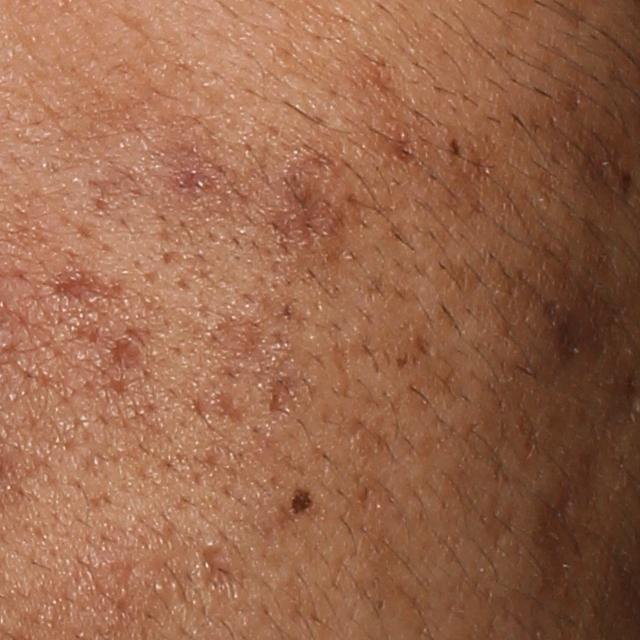atrophic_scar: (209, 379, 251, 423), (102, 333, 147, 372)
nevus: (288, 487, 318, 516)
